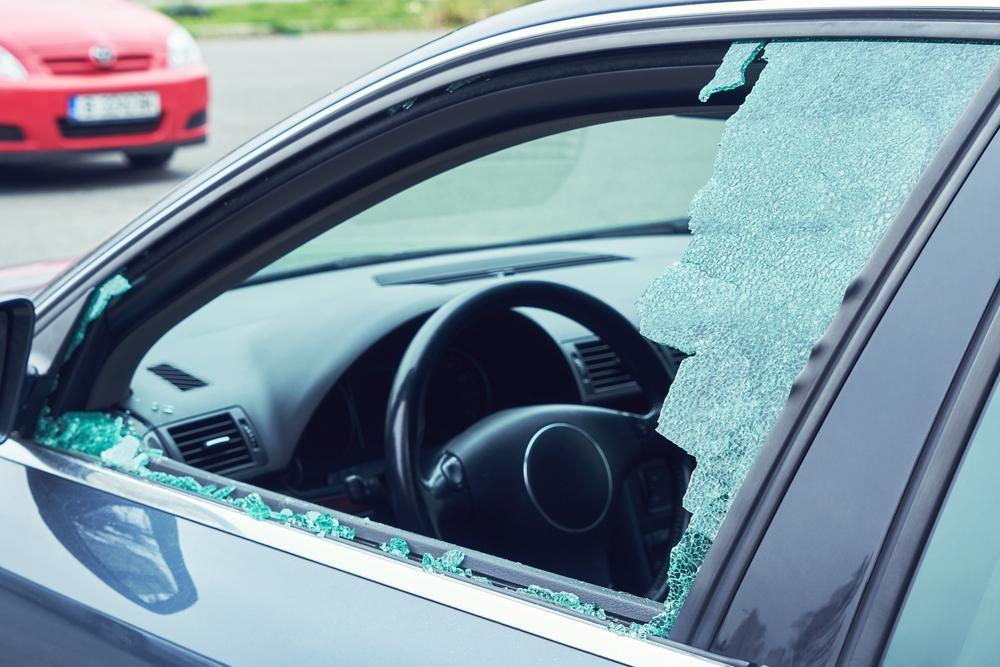glass shatter: (18, 38, 1000, 637)
